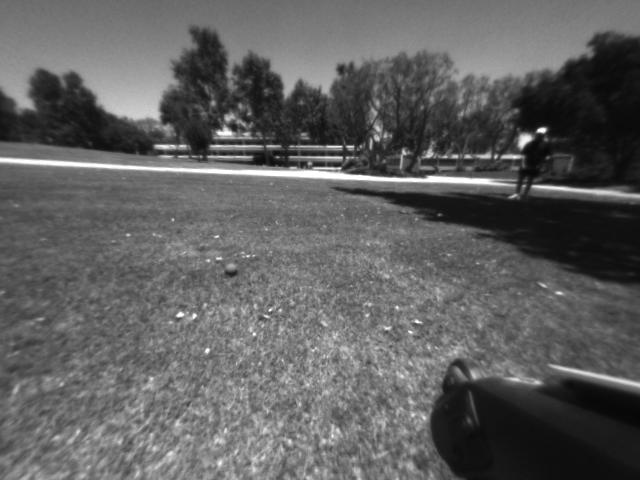dogtoy: (217, 257, 243, 282)
